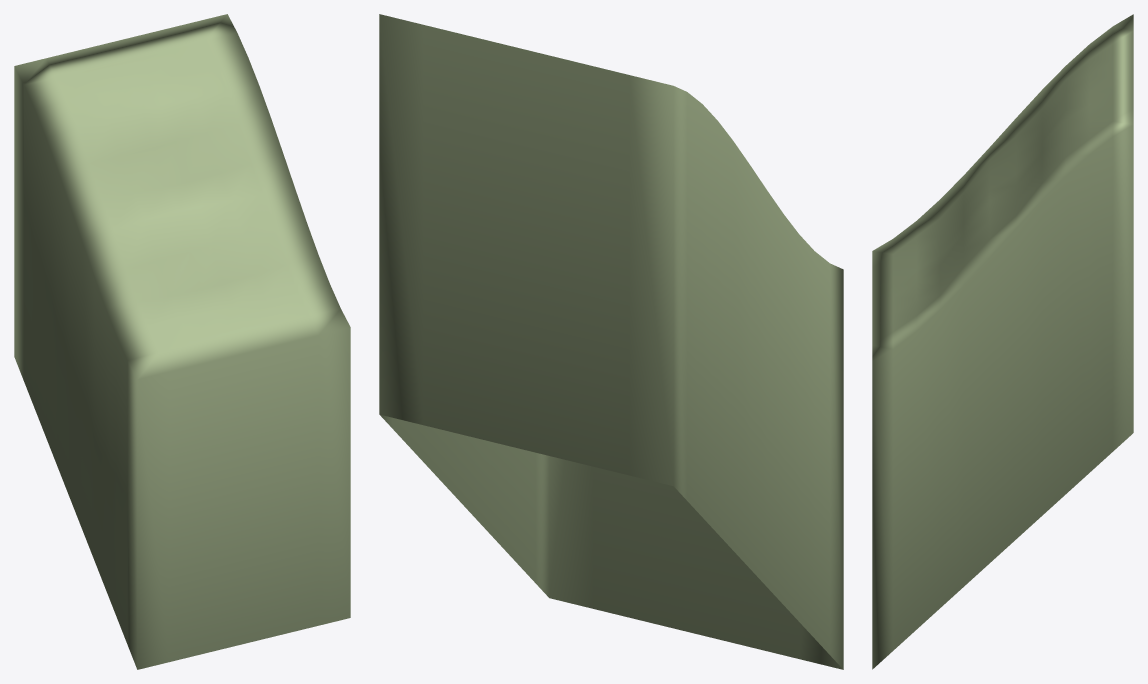
The model's file is ground-ramp-12.glb.
3 renders of one model, left to right at view 1: azimuth 30°, elevation 25°; view 2: azimuth 150°, elevation 25°; view 3: azimuth 270°, elevation 25°, orthographic. The views are drawn at different scales.
Parts seen in each view (by area): view 1: ground-ramp-12; view 2: ground-ramp-12; view 3: ground-ramp-12.
Part boxes in pixels (<box>): ground-ramp-12: <box>14,14,350,669</box>; ground-ramp-12: <box>379,14,843,669</box>; ground-ramp-12: <box>872,14,1133,669</box>.
Size of the model in its own units: 1 by 2.3 by 1.
